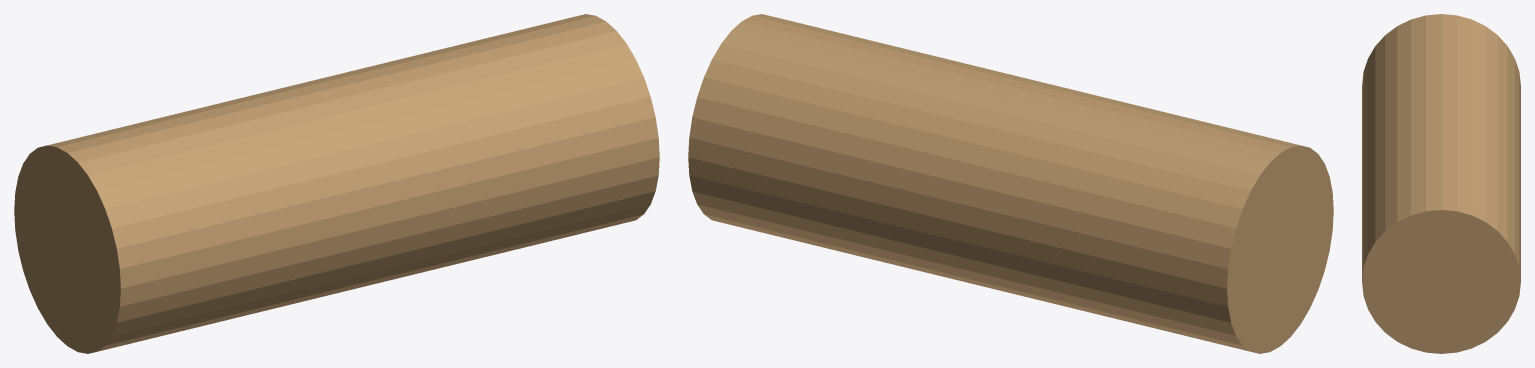
File: wood.glb
The picture shows the model from 3 angles, left to right: view 1: azimuth 30°, elevation 25°; view 2: azimuth 150°, elevation 25°; view 3: azimuth 270°, elevation 25°; orthographic projection. The views are drawn at different scales.
Parts seen in each view (by area): view 1: wood_log; view 2: wood_log; view 3: wood_log.
Boxes of the visible parts, x1,y1,x2,y2 form: wood_log: (14, 14, 659, 353); wood_log: (688, 14, 1333, 353); wood_log: (1362, 14, 1520, 353).
Size of the model in its own units: 0.35 by 0.12 by 0.12.
